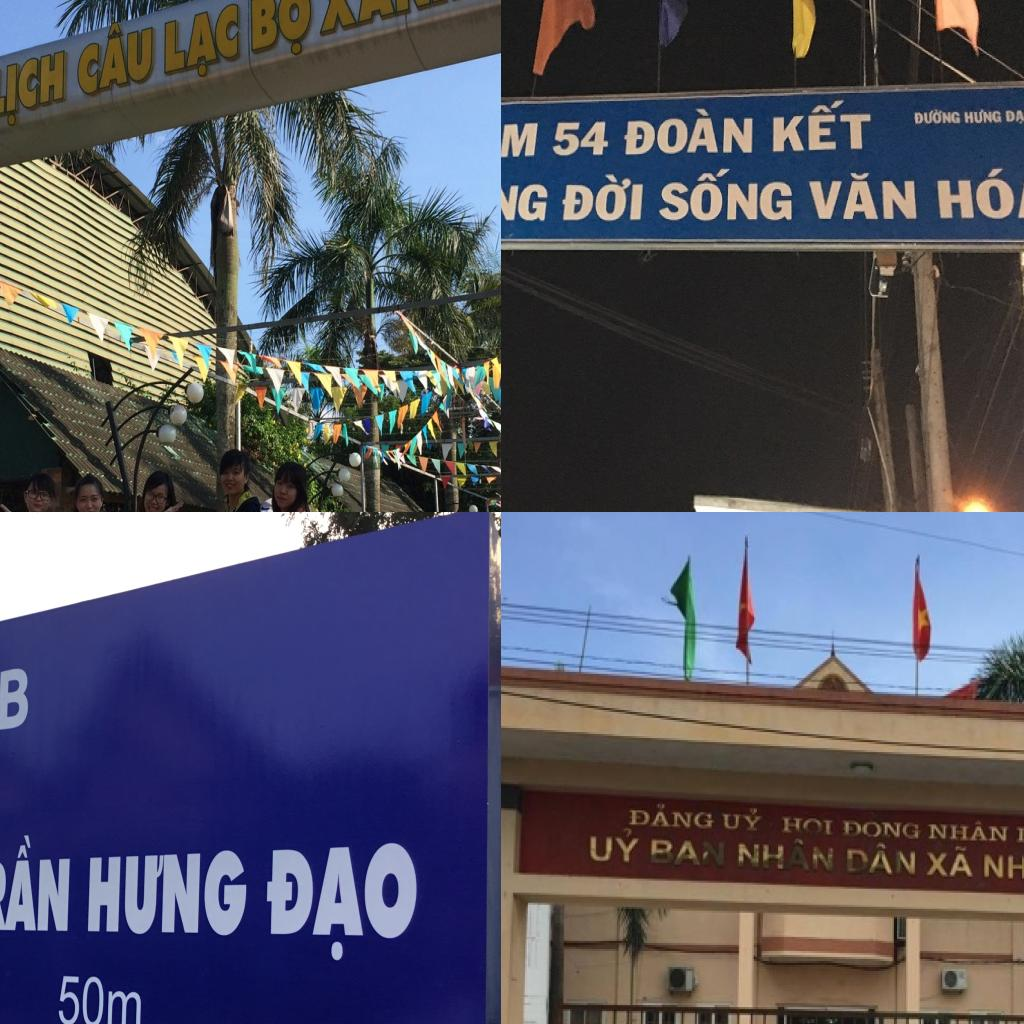text: (265, 839, 421, 963), (86, 848, 248, 938), (0, 834, 74, 937), (657, 169, 795, 224), (76, 10, 156, 104), (618, 106, 756, 160), (163, 0, 243, 92), (314, 0, 470, 42), (809, 169, 919, 228), (0, 45, 68, 133), (769, 100, 875, 156), (555, 172, 650, 228), (933, 169, 1024, 226), (248, 0, 316, 67), (734, 836, 837, 876), (647, 832, 728, 872), (629, 798, 716, 834), (501, 177, 553, 234), (548, 112, 611, 159), (844, 840, 918, 880), (501, 109, 547, 166), (588, 822, 644, 866), (0, 662, 31, 738), (929, 820, 1010, 844), (842, 818, 922, 842), (926, 844, 976, 882), (780, 810, 834, 840), (981, 850, 1024, 886), (722, 804, 763, 836), (913, 109, 963, 128), (964, 106, 1004, 126), (1005, 109, 1024, 124)
